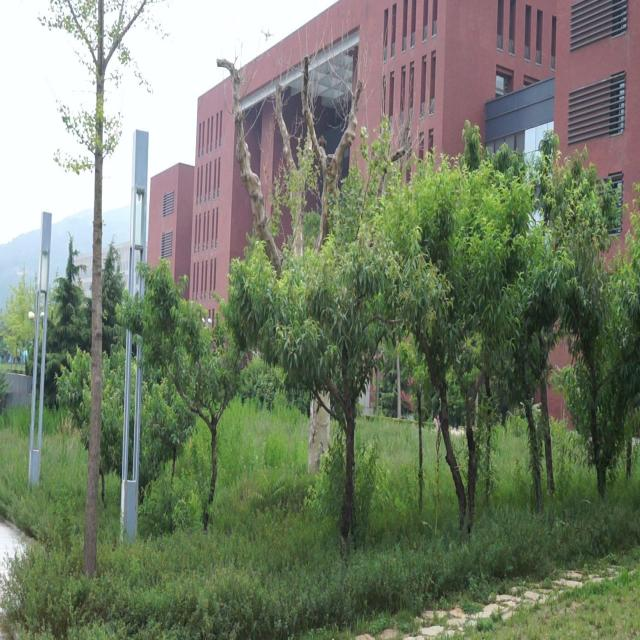drone: (255, 19, 277, 48)
